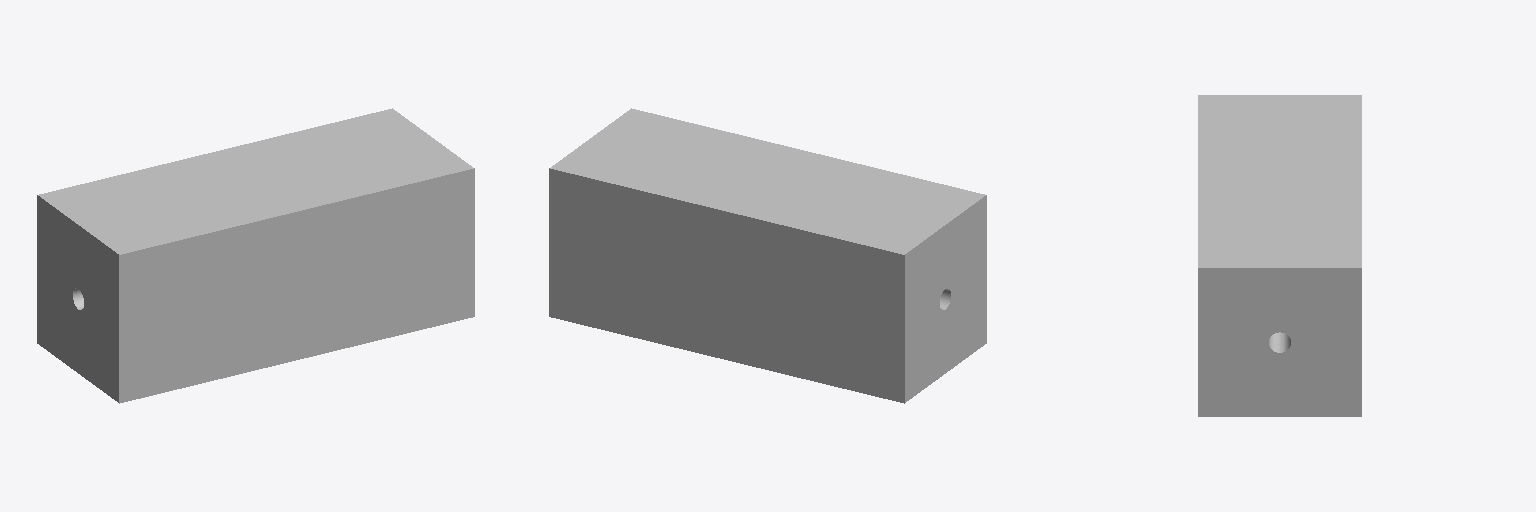
The model's file is holeaprile.obj.
The picture shows the model from 3 angles: view 1: azimuth 30°, elevation 25°; view 2: azimuth 150°, elevation 25°; view 3: azimuth 270°, elevation 25°; orthographic projection.
Parts seen in each view (by area): view 1: 1; view 2: 1; view 3: 1.
Boxes of the visible parts, <box> form: 1: <box>37,108,474,403</box>; 1: <box>549,108,986,403</box>; 1: <box>1198,95,1361,416</box>.
Bounding box in the file's own units: 2 × 0.8 × 0.8.